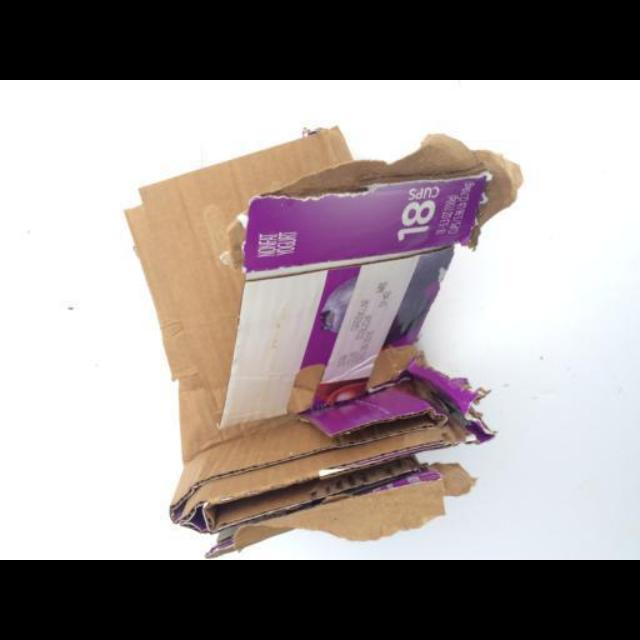papelão: (123, 125, 523, 560)
